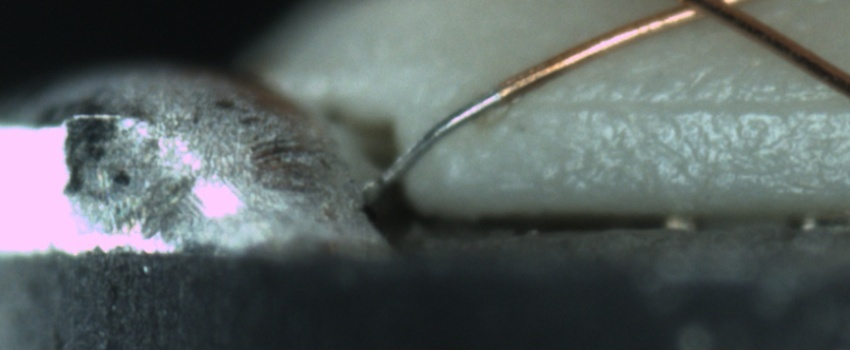CL: (660, 0, 753, 28)
DL: (463, 74, 850, 138)
TS: (365, 85, 499, 201)
TTCW: (381, 69, 540, 188)
